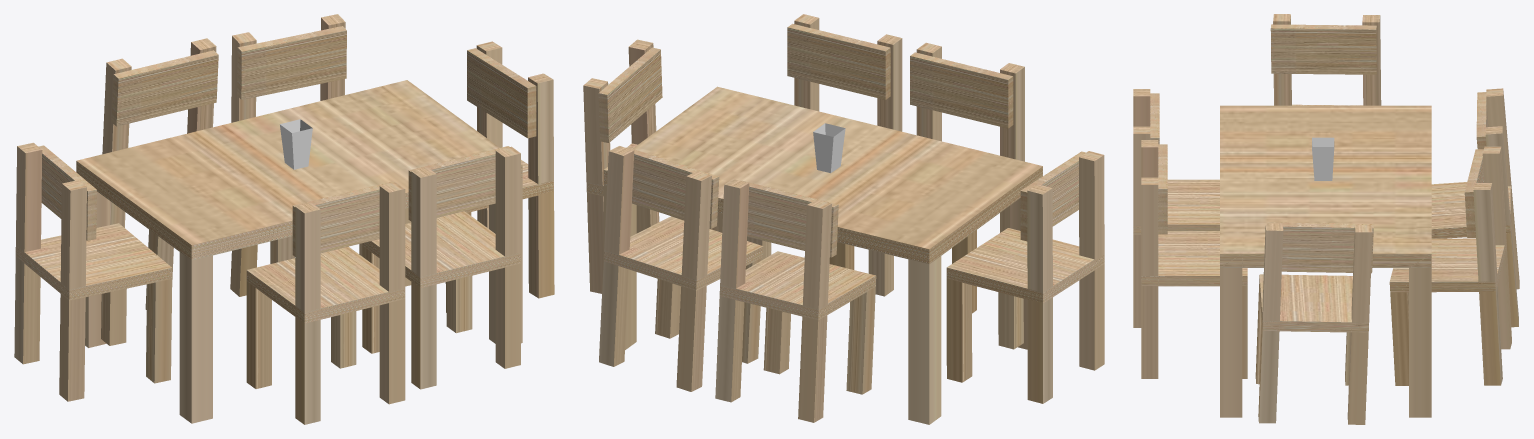
File: table_TP1.glb
3 views of the same model, side by side, from view 1: azimuth 30°, elevation 25°; view 2: azimuth 150°, elevation 25°; view 3: azimuth 270°, elevation 25° (orthographic). The views are drawn at different scales.
Visible parts, largest first — view 1: Cube.006, Cube, Cube.005, Cube.003, Cube.004, Cube.002, Cube.001, Cube.009; view 2: Cube.006, Cube.002, Cube.005, Cube.001, Cube, Cube.003, Cube.004, Cube.009; view 3: Cube.006, Cube.004, Cube.001, Cube.003, Cube.005, Cube, Cube.002, Cube.009.
Boxes of the visible parts, x1=… form: Cube.006: x1=76, y1=80, x2=522, y2=423; Cube: x1=246, y1=181, x2=405, y2=424; Cube.005: x1=14, y1=142, x2=172, y2=401; Cube.003: x1=362, y1=146, x2=520, y2=389; Cube.004: x1=405, y1=41, x2=554, y2=312; Cube.002: x1=102, y1=38, x2=257, y2=309; Cube.001: x1=231, y1=14, x2=362, y2=263; Cube.009: x1=280, y1=119, x2=312, y2=169; Cube.006: x1=603, y1=86, x2=1042, y2=424; Cube.002: x1=715, y1=179, x2=876, y2=422; Cube.005: x1=946, y1=151, x2=1104, y2=403; Cube.001: x1=599, y1=146, x2=763, y2=391; Cube: x1=868, y1=42, x2=1024, y2=313; Cube.003: x1=747, y1=14, x2=902, y2=269; Cube.004: x1=583, y1=39, x2=722, y2=293; Cube.009: x1=813, y1=123, x2=845, y2=173; Cube.006: x1=1220, y1=105, x2=1431, y2=417; Cube.004: x1=1255, y1=222, x2=1373, y2=424; Cube.001: x1=1389, y1=146, x2=1511, y2=385; Cube.003: x1=1141, y1=140, x2=1247, y2=378; Cube.005: x1=1270, y1=14, x2=1381, y2=105; Cube: x1=1133, y1=89, x2=1219, y2=327; Cube.002: x1=1431, y1=88, x2=1519, y2=327; Cube.009: x1=1312, y1=137, x2=1334, y2=180.
Bounding box in the file's own units: 9.55 × 4.46 × 7.26.
8 materials, 7 textured.
